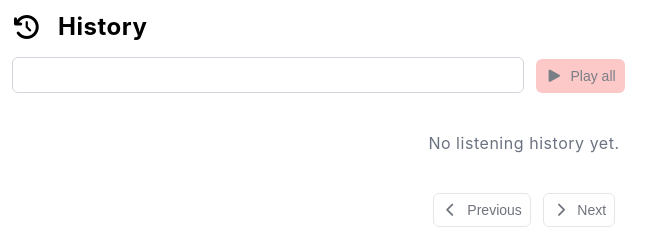
Test: HistoryView › shows the empty label and the empty-search label
In the search field: (268, 75) x1=12 y1=57 x2=524 y2=93, type "nomatch"
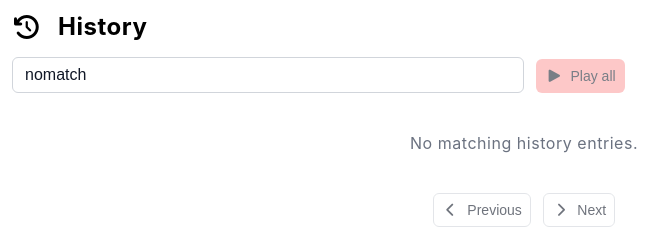
expect the text "No matching history entries." is shown: met, box x1=410 y1=133 x2=638 y2=153
